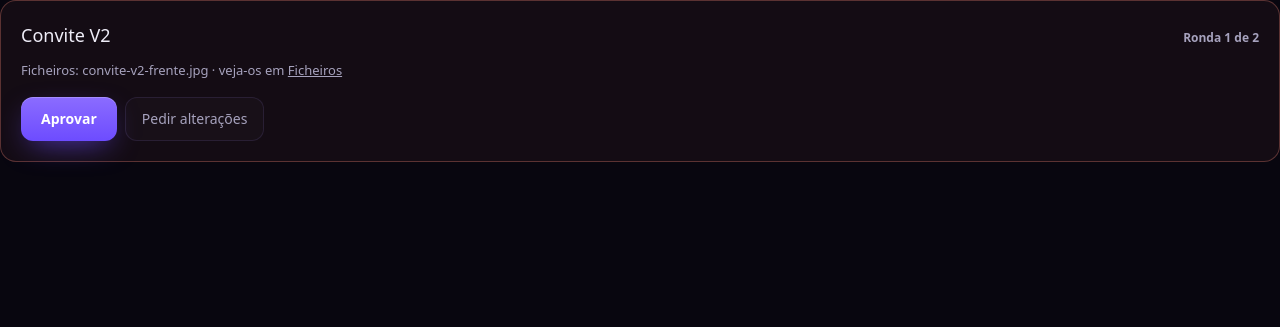
it: ApprovalCard com rondas › mostra a ronda e avisa que o próximo pedido é o último incluído
Check: the text "Ronda 1 de 2" is shown, box left=1183, top=30, right=1259, bottom=46
Click the button "Pedir alterações": (195, 118) left=125, top=96, right=264, bottom=140
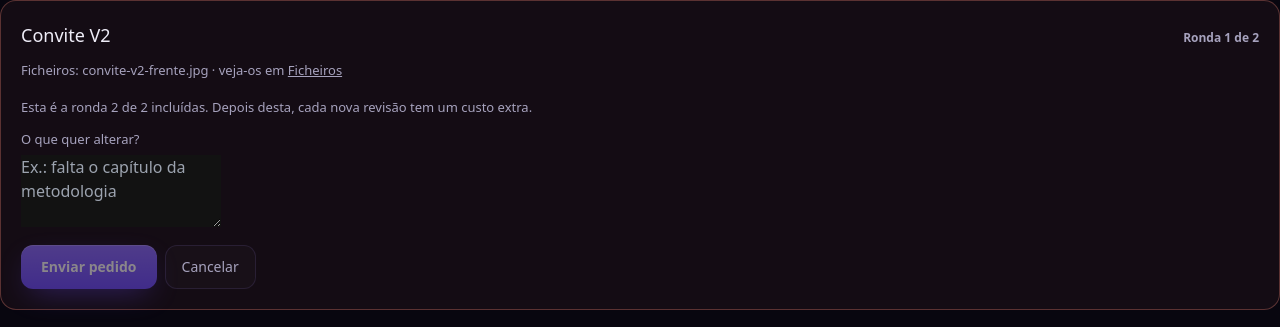
Check: the text "Esta é a ronda 2 de 2 incluídas" is shown, box left=21, top=98, right=532, bottom=116
